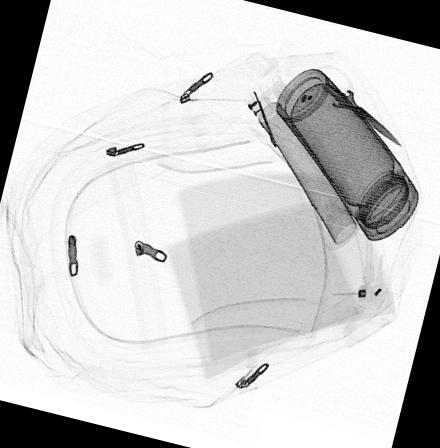Scissors: (301, 61, 404, 147)
